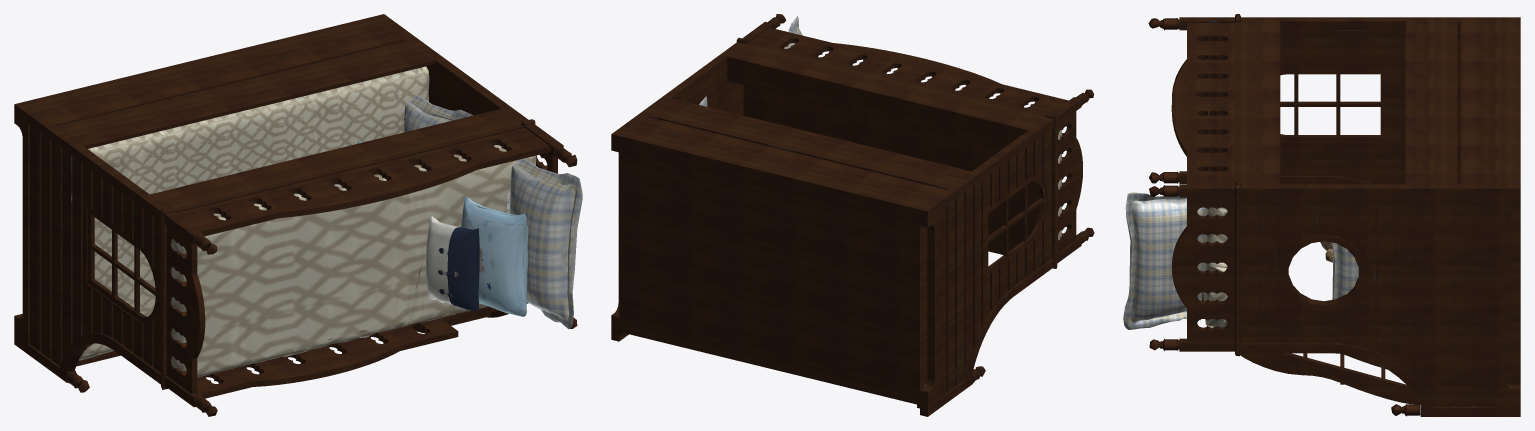
The model's file is raw_model.glb.
The picture shows the model from 3 angles, left to right: view 1: azimuth 30°, elevation 25°; view 2: azimuth 150°, elevation 25°; view 3: azimuth 270°, elevation 25°; orthographic projection. The views are drawn at different scales.
Visible parts, largest first — view 1: raw_model.020; view 2: raw_model.020; view 3: raw_model.020.
Part boxes in pixels (x1,y1,x2,y2): raw_model.020: (14, 14, 582, 416); raw_model.020: (611, 14, 1094, 416); raw_model.020: (1123, 14, 1520, 416).
Bounding box in the file's own units: 2.05 × 1.28 × 1.99.
Materials: 1 (1 with a texture image).
